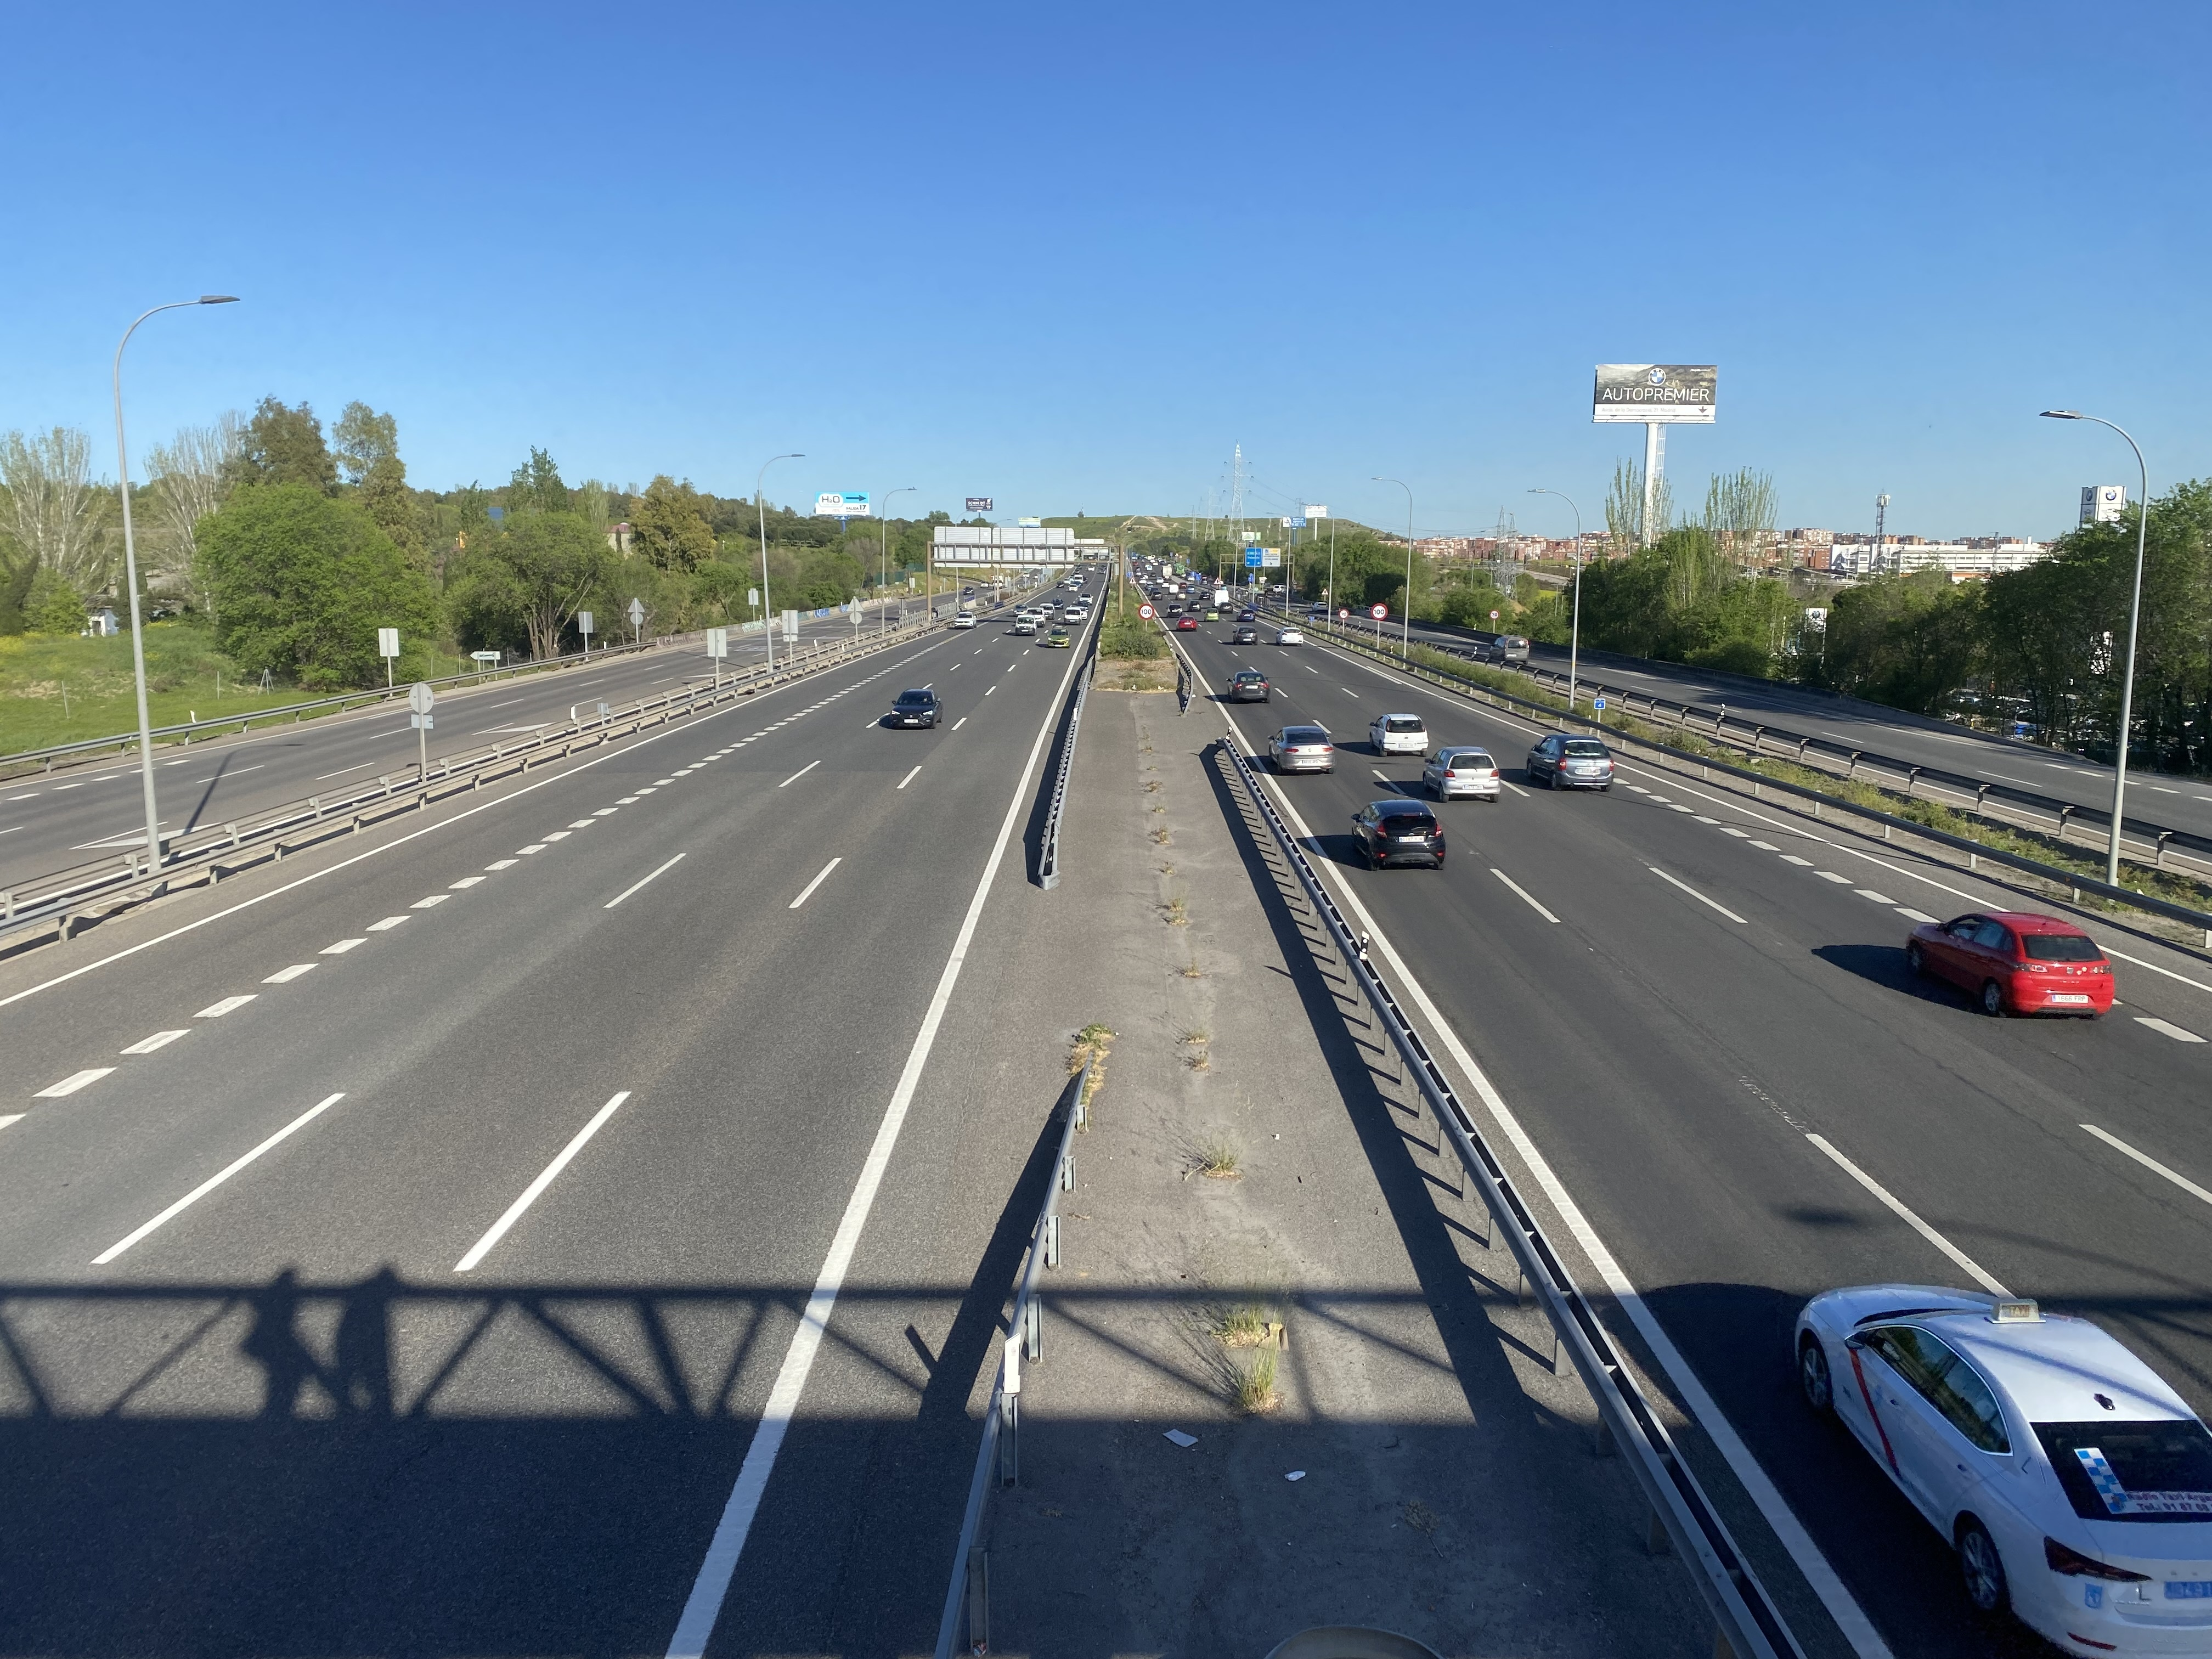cars: (1797, 1284, 2212, 1654), (1907, 911, 2113, 1018), (1353, 798, 1444, 868), (1527, 732, 1613, 791), (1423, 746, 1500, 802), (1270, 725, 1332, 772), (881, 687, 942, 728), (1371, 713, 1428, 755), (1224, 669, 1271, 702), (1040, 627, 1071, 648), (1012, 613, 1038, 634), (1231, 624, 1258, 645), (951, 610, 977, 629), (1277, 627, 1305, 645), (1176, 615, 1198, 631), (1137, 603, 1155, 620)
